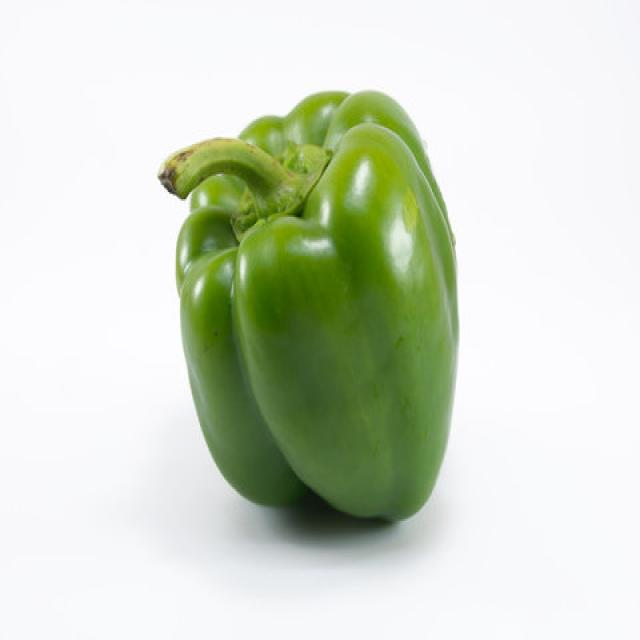Bell Pepper: (156, 87, 460, 525)
